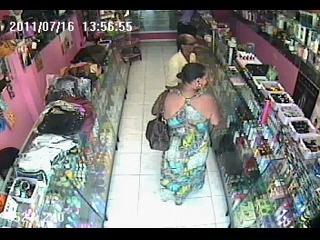Normal: (150, 63, 226, 206), (165, 33, 198, 90), (145, 116, 170, 152)
